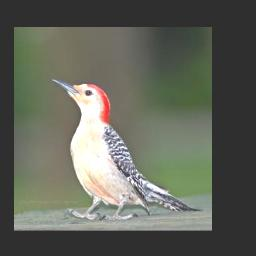Woodpecker: (49, 76, 203, 221)
